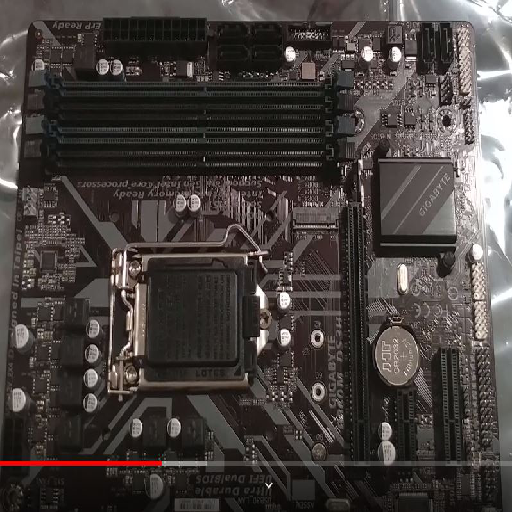CPU: (111, 250, 272, 394)
GPU: (338, 198, 375, 468)
MOTHERBOARD: (8, 16, 501, 507)
RAM: (29, 70, 358, 174)
SSD: (290, 204, 341, 233)
